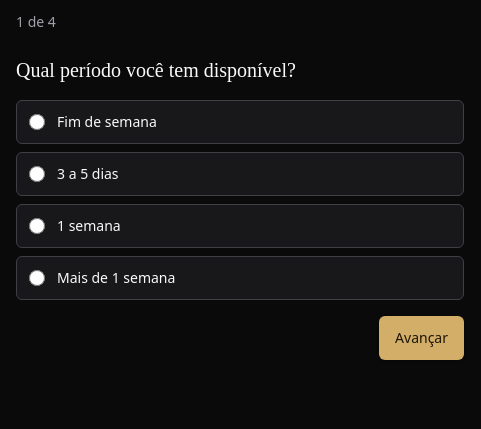
Test: QuizWizard (T03a-d, RF-03) › navega sequencialmente pelas 4 perguntas ao selecionar período e avançar
Click the radio button labelled "Fim de semana". click: (37, 122)
box: top-left (29, 114), bottom-right (45, 130)
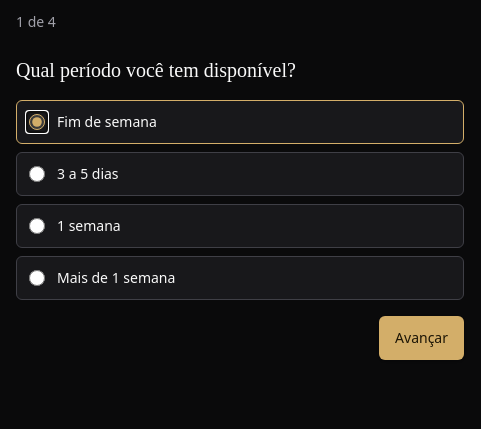
Click the button "Avançar". click: (422, 338)
box: top-left (379, 316), bottom-right (464, 360)
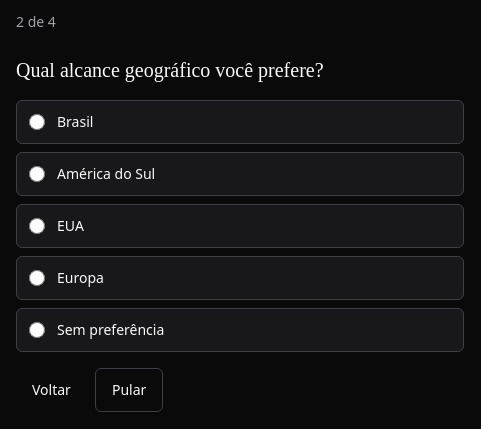
Check: the text "2 de 4" is shown, box top-left (16, 12), bottom-right (56, 31)
Check: the heading "Qual alcance geográfico você prefere?" is shown, box top-left (16, 59), bottom-right (324, 81)
Check: the button "Pular" is shown
Click the button "Pular". click: (129, 390)
box: top-left (95, 368), bottom-right (163, 412)
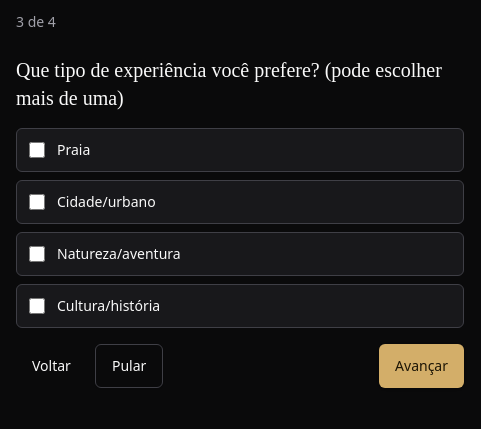
Check: the button "Pular" is shown
Check: the text "3 de 4" is shown, box top-left (16, 12), bottom-right (56, 31)
Check: the heading "tipo de experiência" is shown, box top-left (16, 56), bottom-right (464, 112)
Click the button "Pular". click: (129, 366)
box: top-left (95, 344), bottom-right (163, 388)
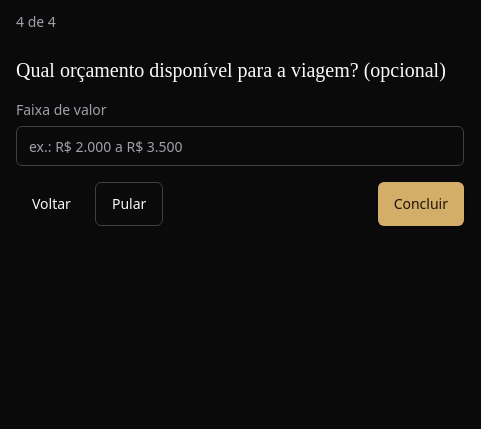
Check: the button "Pular" is shown, box top-left (95, 182), bottom-right (163, 226)
Check: the text "4 de 4" is shown, box top-left (16, 12), bottom-right (56, 31)
Check: the heading "Qual orçamento disponível para a viagem? (opcional)" is shown, box top-left (16, 56), bottom-right (464, 84)
